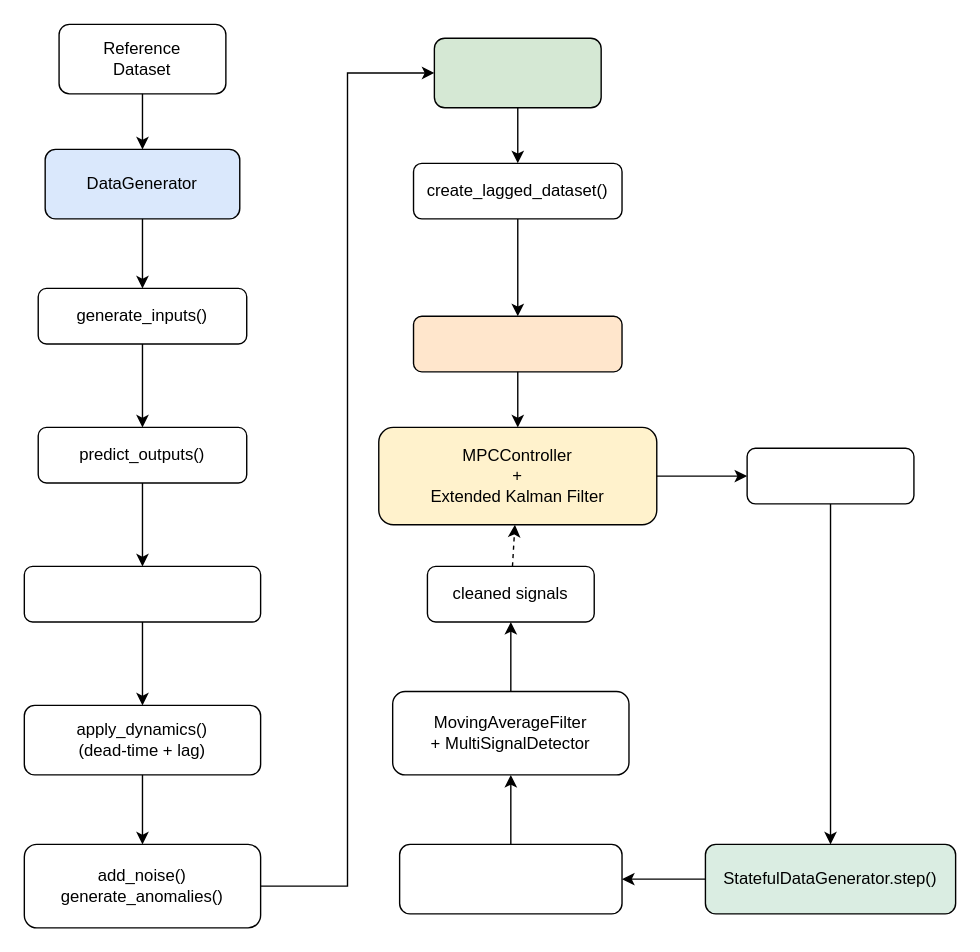
Image size: 980x952. Some labels were removed from this diagram. The centre of each missing label's shape, as x and y in pixels:
"apply_mass_balance()" goes at (142,593).
"KernelModel.fit(X, Y)" goes at (517,343).
"plant measurements (Fe, Mass)" goes at (510,878).
"Synthetic Dataset" goes at (517,72).
"u (control signal)" goes at (830,475).
